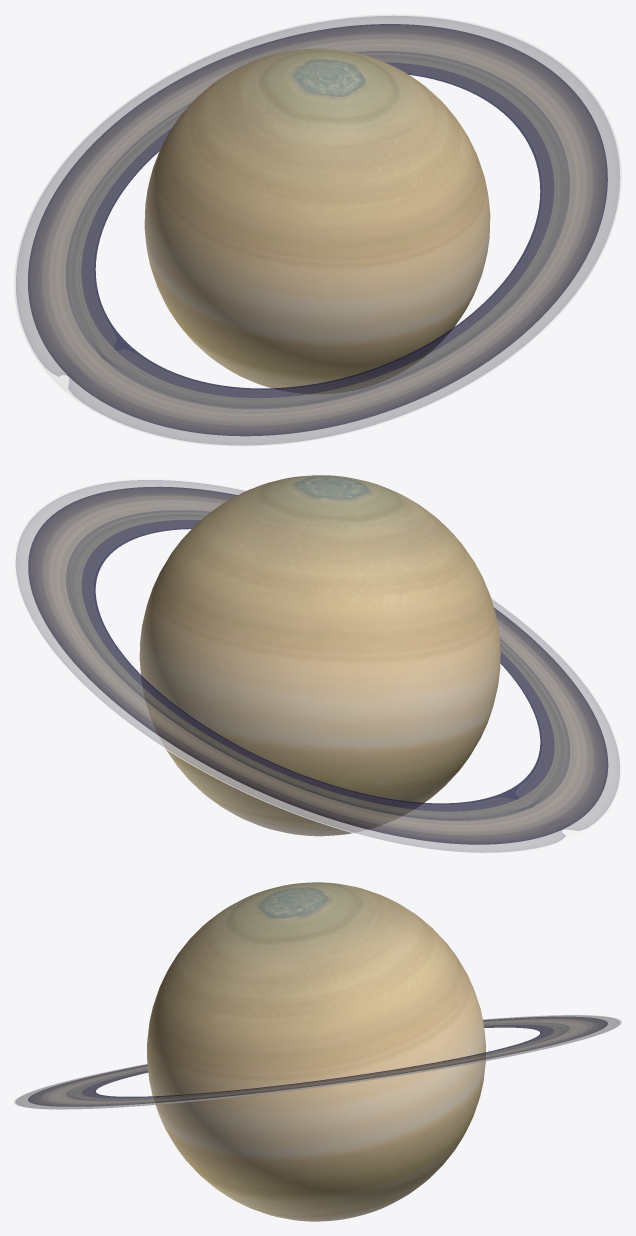
Rendered from saturn.gltf.
The picture shows the model from 3 angles, top to bottom: view 1: azimuth 30°, elevation 25°; view 2: azimuth 150°, elevation 25°; view 3: azimuth 270°, elevation 25°; orthographic projection. The views are drawn at different scales.
Visible parts, largest first — view 1: saturn_19, saturn_ring_18; view 2: saturn_19, saturn_ring_18; view 3: saturn_19, saturn_ring_18.
Boxes of the visible parts, bbox=[...] form: saturn_19: bbox=[144, 48, 490, 393]; saturn_ring_18: bbox=[14, 14, 621, 446]; saturn_19: bbox=[139, 475, 500, 836]; saturn_ring_18: bbox=[14, 478, 621, 853]; saturn_19: bbox=[147, 882, 485, 1221]; saturn_ring_18: bbox=[14, 1015, 621, 1109].
Bounding box in the file's own units: 7.3 × 4.3 × 7.71.
2 materials, 2 textured.
